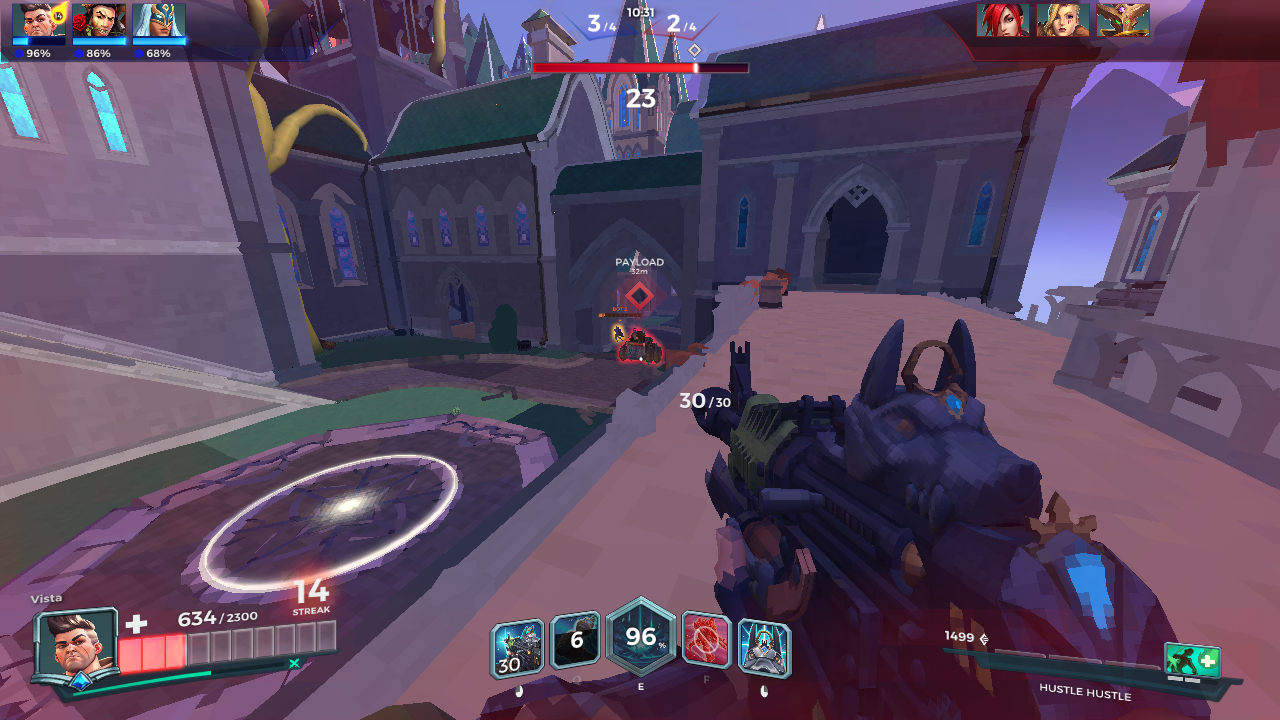model: (613, 324, 625, 344)
